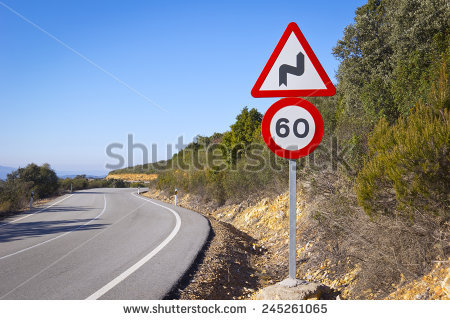Speed_limit_60km: (261, 97, 324, 160)
